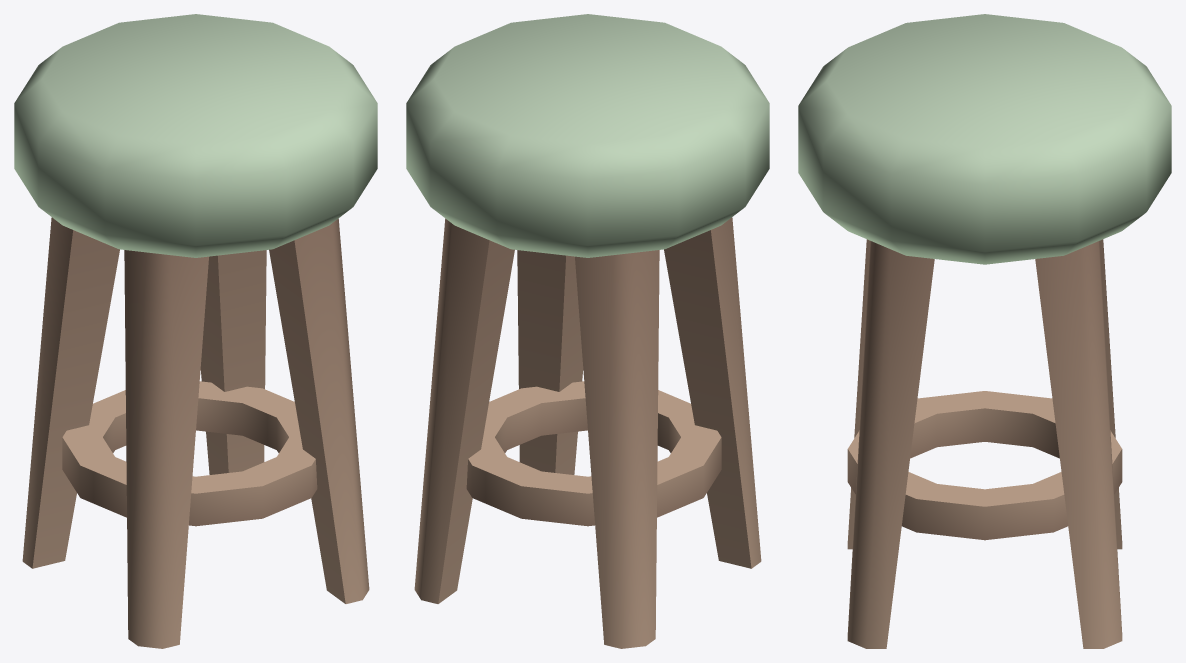
The model's file is bar-stool-round (%secret).glb.
3 renders of one model, left to right at view 1: azimuth 30°, elevation 25°; view 2: azimuth 150°, elevation 25°; view 3: azimuth 270°, elevation 25°, orthographic. The views are drawn at different scales.
Parts seen in each view (by area): view 1: bar-stool-round (%secret); view 2: bar-stool-round (%secret); view 3: bar-stool-round (%secret).
Part boxes in pixels (x1,y1,x2,y2): bar-stool-round (%secret): (14,14,377,648); bar-stool-round (%secret): (406,14,769,648); bar-stool-round (%secret): (798,14,1171,648).
Bounding box in the file's own units: 0.4047 × 0.61 × 0.4047.
